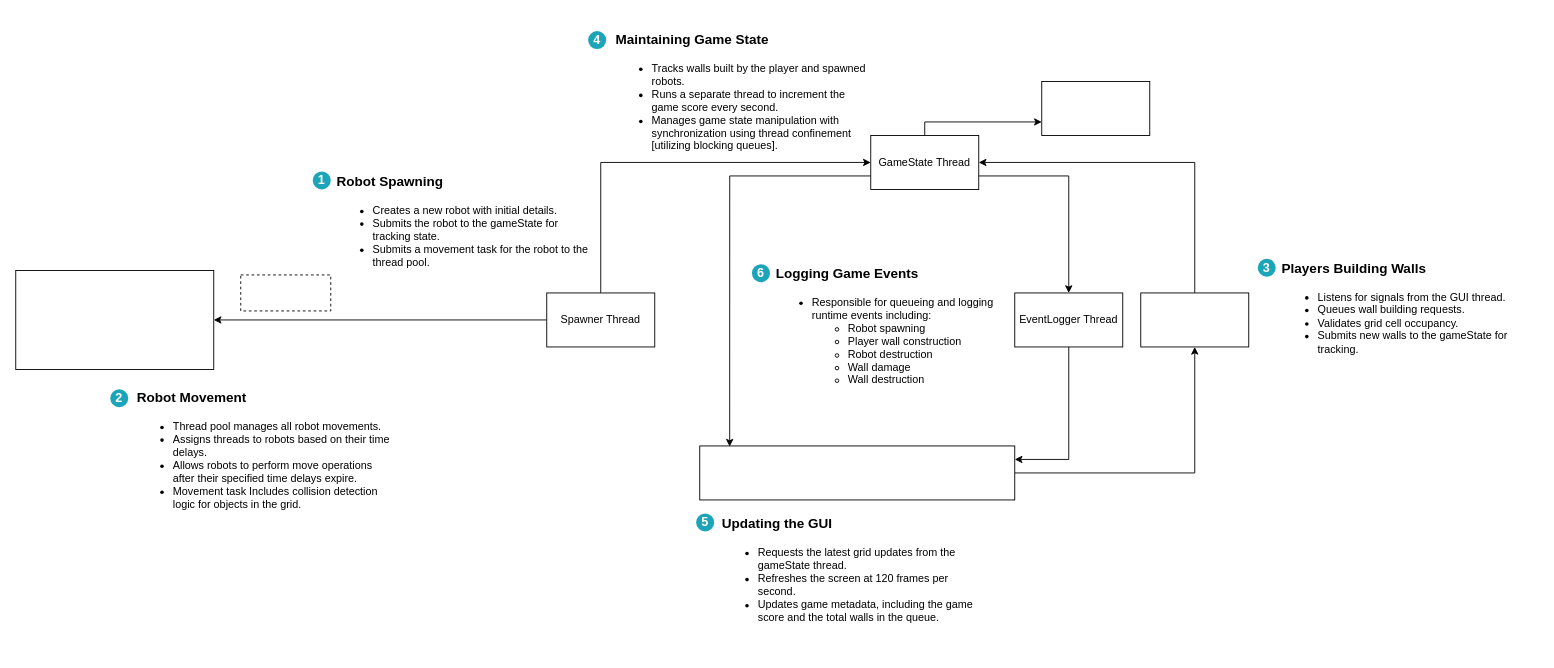
Some shapes in this 1554 by 668 pixel diagram are drawn without their labels. The shapes that lost their labels are listed below. From the top down, each one's box as (x1, y1, x2, y2) in pixels, then its label:
(1041, 81, 1150, 135): GameScore Thread
(240, 274, 331, 311): Movement Task
(15, 270, 214, 369): Thread Pool
(1140, 292, 1249, 347): WallBuilder Thread
(699, 445, 1015, 500): GUI Thread (JavaFX)
